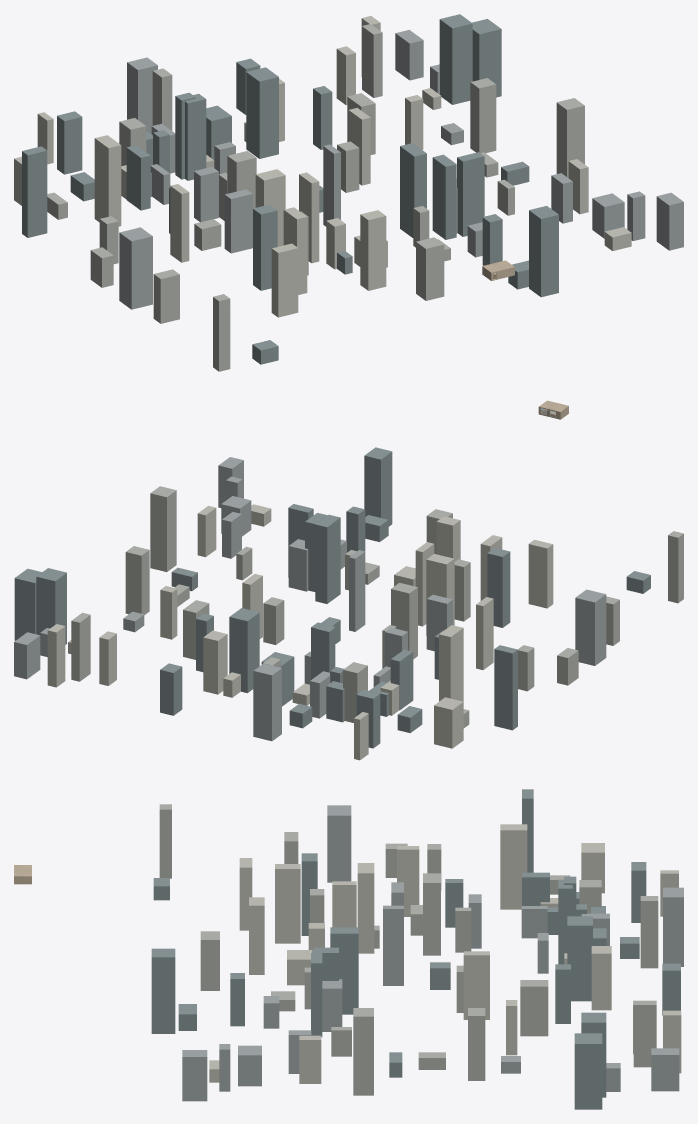
The model's file is hospital_spatial_D.glb.
The picture shows the model from 3 angles, top to bottom: view 1: azimuth 30°, elevation 25°; view 2: azimuth 150°, elevation 25°; view 3: azimuth 270°, elevation 25°; orthographic projection. The views are drawn at different scales.
Parts seen in each view (by area): view 1: Approximate city • finite mass 10, Approximate city • finite mass 65, Approximate city • finite mass 89, Approximate city • finite mass 75, Approximate city • finite mass 18, Approximate city • finite mass 50, Approximate city • finite mass 55, Approximate city • finite mass 85, Approximate city • finite mass 2, Approximate city • finite mass 82, Approximate city • finite mass 47, Approximate city • finite mass 1 (+50 smaller); view 2: Approximate city • finite mass 89, Approximate city • finite mass 1, Approximate city • finite mass 2, Approximate city • finite mass 10, Approximate city • finite mass 79, Approximate city • finite mass 75, Approximate city • finite mass 50, Approximate city • finite mass 65, Approximate city • finite mass 18, Approximate city • finite mass 47, Approximate city • finite mass 74, Approximate city • finite mass 56 (+45 smaller); view 3: Approximate city • finite mass 9, Approximate city • finite mass 18, Approximate city • finite mass 75, Approximate city • finite mass 52, Approximate city • finite mass 10, Approximate city • finite mass 89, Approximate city • finite mass 1, Approximate city • finite mass 2, Approximate city • finite mass 71, Approximate city • finite mass 26, Approximate city • finite mass 16, Approximate city • finite mass 79 (+46 smaller).
Boxes of the visible parts, left/top/right/bottom form: Approximate city • finite mass 10: left=246, top=67, right=278, bottom=158; Approximate city • finite mass 65: left=439, top=14, right=472, bottom=104; Approximate city • finite mass 89: left=119, top=227, right=152, bottom=309; Approximate city • finite mass 75: left=529, top=206, right=558, bottom=297; Approximate city • finite mass 18: left=94, top=135, right=121, bottom=226; Approximate city • finite mass 50: left=22, top=146, right=47, bottom=237; Approximate city • finite mass 55: left=457, top=152, right=484, bottom=236; Approximate city • finite mass 85: left=360, top=210, right=386, bottom=290; Approximate city • finite mass 2: left=400, top=143, right=426, bottom=237; Approximate city • finite mass 82: left=432, top=154, right=456, bottom=239; Approximate city • finite mass 47: left=271, top=243, right=298, bottom=317; Approximate city • finite mass 1: left=556, top=98, right=584, bottom=177; Approximate city • finite mass 89: left=575, top=589, right=606, bottom=665; Approximate city • finite mass 1: left=150, top=486, right=176, bottom=571; Approximate city • finite mass 2: left=315, top=514, right=340, bottom=603; Approximate city • finite mass 10: left=229, top=608, right=259, bottom=693; Approximate city • finite mass 79: left=253, top=663, right=281, bottom=741; Approximate city • finite mass 75: left=364, top=447, right=392, bottom=526; Approximate city • finite mass 50: left=494, top=645, right=517, bottom=730; Approximate city • finite mass 65: left=36, top=568, right=66, bottom=644; Approximate city • finite mass 18: left=439, top=625, right=463, bottom=701; Approximate city • finite mass 47: left=528, top=539, right=553, bottom=608; Approximate city • finite mass 74: left=487, top=548, right=510, bottom=627; Approximate city • finite mass 56: left=125, top=546, right=149, bottom=614; Approximate city • finite mass 9: left=574, top=1033, right=602, bottom=1109; Approximate city • finite mass 18: left=500, top=824, right=527, bottom=909; Approximate city • finite mass 75: left=151, top=948, right=175, bottom=1033; Approximate city • finite mass 52: left=275, top=864, right=300, bottom=943; Approximate city • finite mass 10: left=567, top=916, right=592, bottom=1001; Approximate city • finite mass 89: left=327, top=805, right=351, bottom=882; Approximate city • finite mass 1: left=353, top=1008, right=373, bottom=1095; Approximate city • finite mass 2: left=330, top=927, right=358, bottom=1014; Approximate city • finite mass 71: left=383, top=905, right=403, bottom=985; Approximate city • finite mass 26: left=463, top=951, right=489, bottom=1019; Approximate city • finite mass 16: left=520, top=980, right=548, bottom=1036; Approximate city • finite mass 79: left=663, top=887, right=683, bottom=966.
Bounding box in the file's own units: 198 × 39.68 × 234.
Materials: 24 (5 with a texture image).
